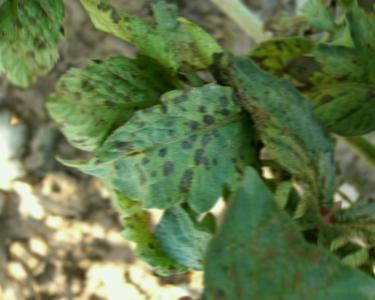Tomato leaf bacterial spot: (54, 22, 280, 252), (175, 34, 375, 224), (26, 4, 217, 197)
